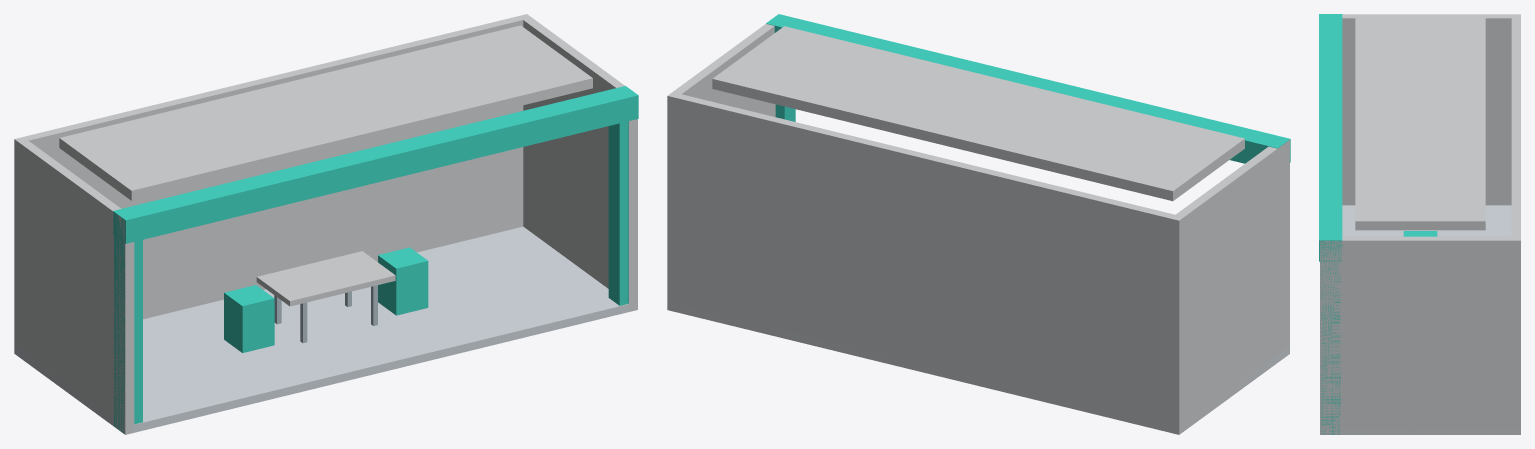
The picture shows the model from 3 angles, left to right: view 1: azimuth 30°, elevation 25°; view 2: azimuth 150°, elevation 25°; view 3: azimuth 270°, elevation 25°; orthographic projection. The views are drawn at different scales.
Parts seen in each view (by area): view 1: Exhibition Booth Concept; view 2: Exhibition Booth Concept; view 3: Exhibition Booth Concept.
Boxes of the visible parts, x1,y1,x2,y2 form: Exhibition Booth Concept: [14, 14, 638, 434]; Exhibition Booth Concept: [667, 14, 1290, 434]; Exhibition Booth Concept: [1319, 14, 1520, 434].
Size of the model in its own units: 8 by 3.34 by 3.01.
